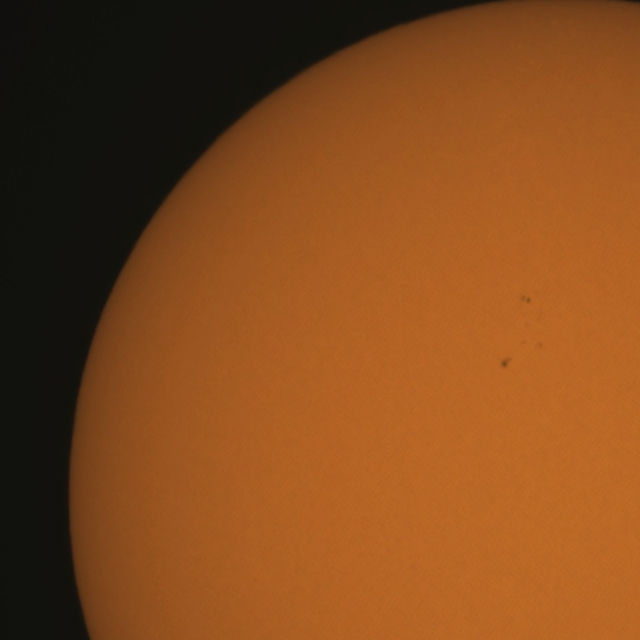sunspot: (499, 356, 512, 370), (520, 294, 532, 305)
